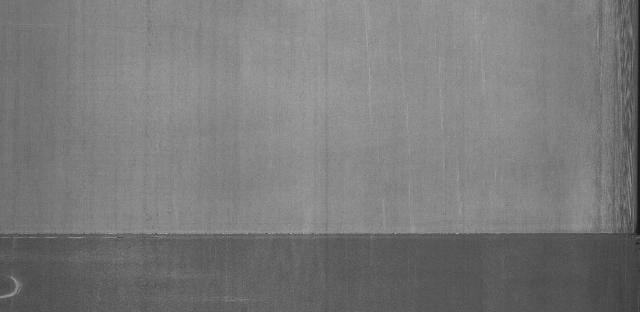welding_line: (3, 219, 640, 255)
